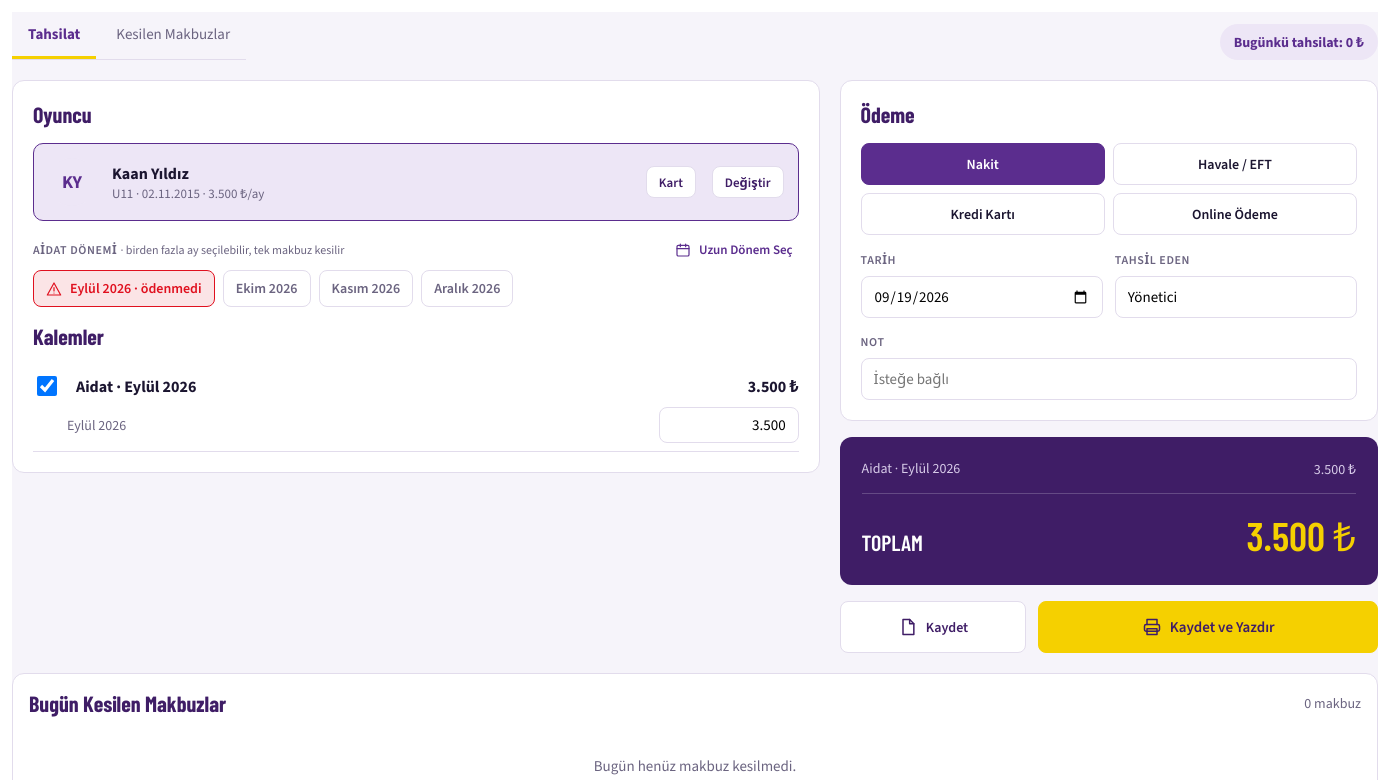
Test: Tahsilat — yazdırma/PDF hata yolları › Kaydet (yazdırmadan): yazıcı çağrılmaz, PDF üretilir
This screenshot has width=1390, height=780.
Step 1. Click the button "Kaydet" → [933, 627], box [840,601,1026,653]
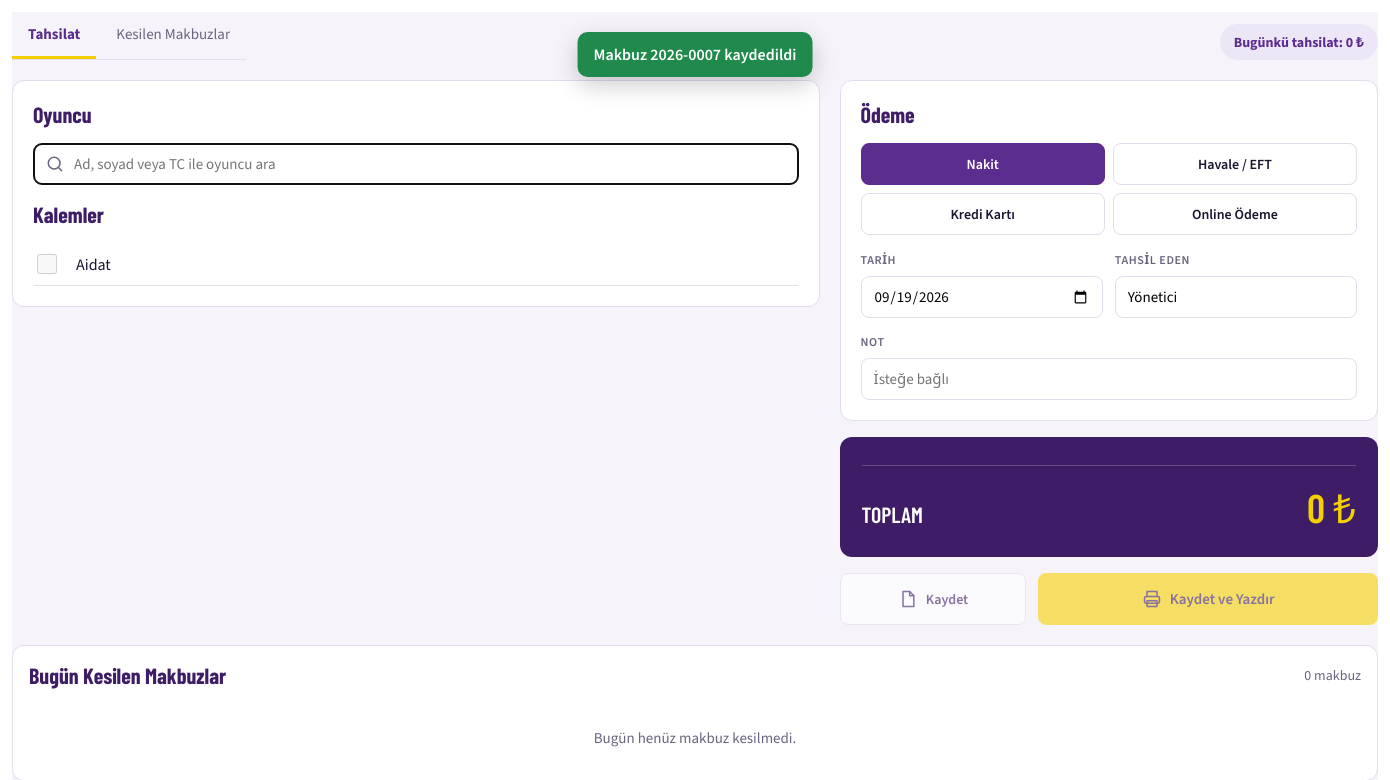
Expected: the text "Makbuz 2026-0007 kaydedildi" is shown, [578,32,812,77]
